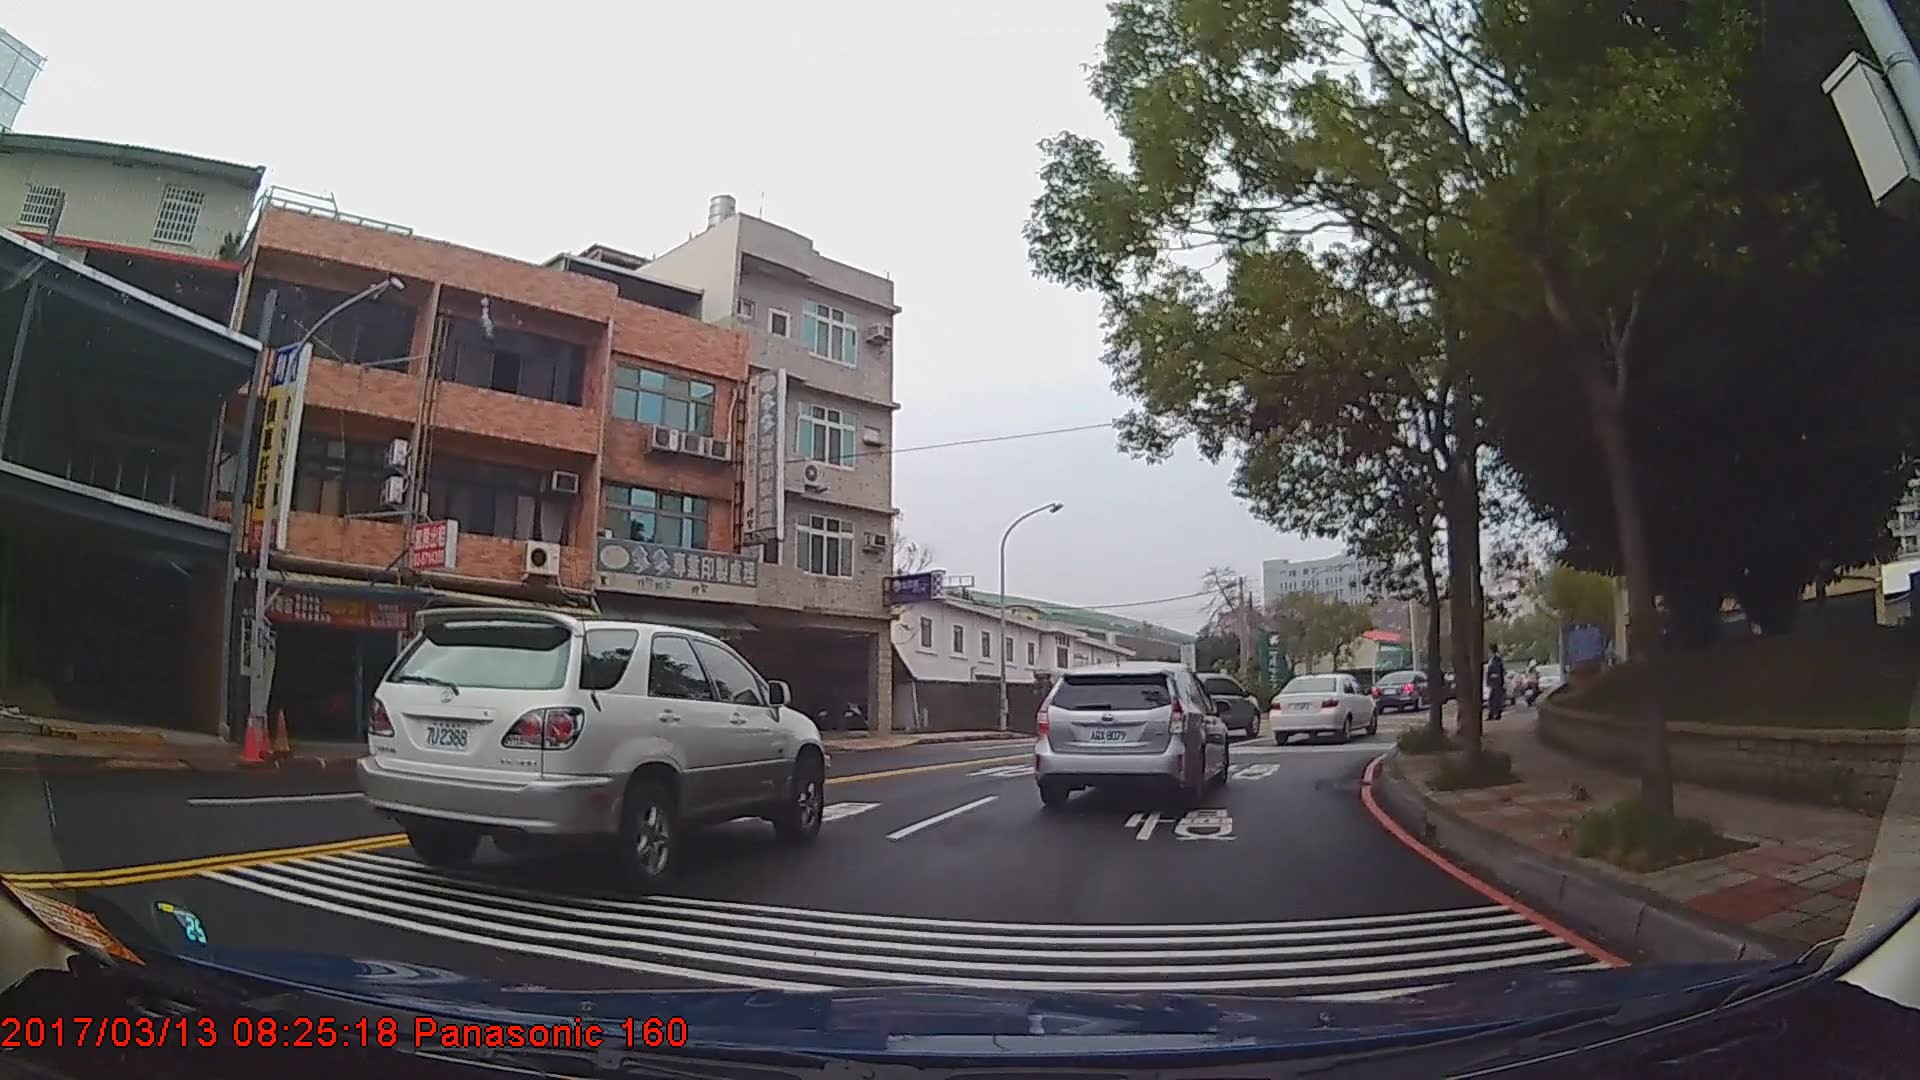vehicle: (355, 607, 825, 895), (1030, 659, 1226, 812), (1263, 673, 1375, 744), (1164, 673, 1261, 742), (1367, 667, 1436, 715)
